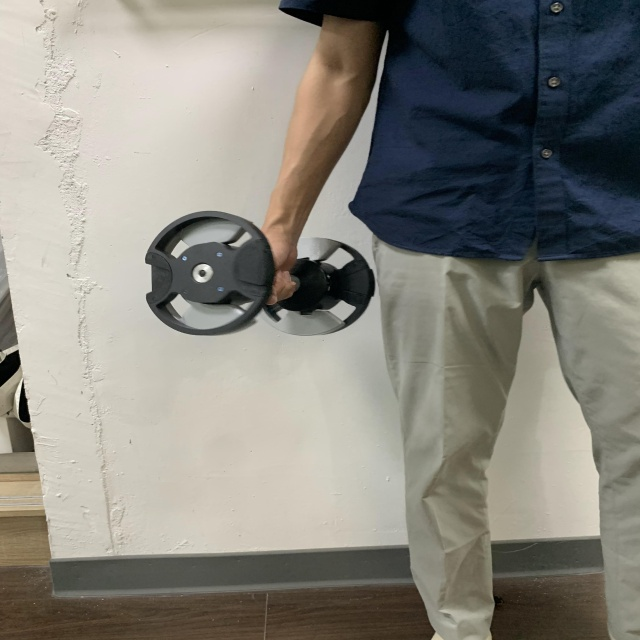02-4kg: (145, 210, 373, 338)
